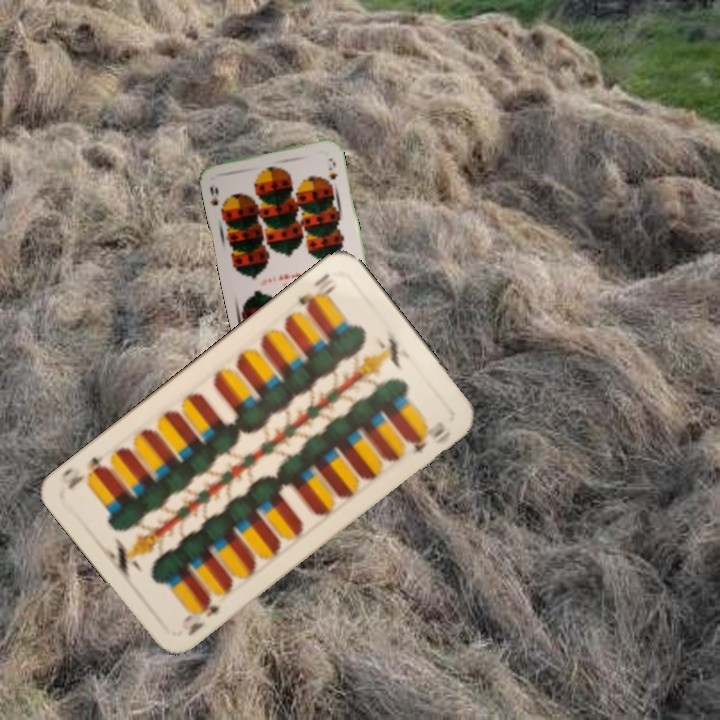E10: (177, 593, 222, 639), (294, 269, 339, 313)
S9: (206, 182, 228, 216)
